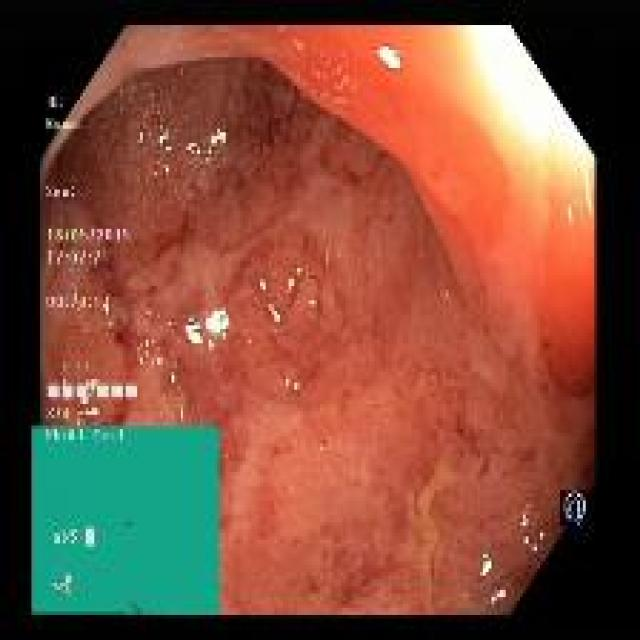ulcerative-colitis: (42, 58, 590, 613)
